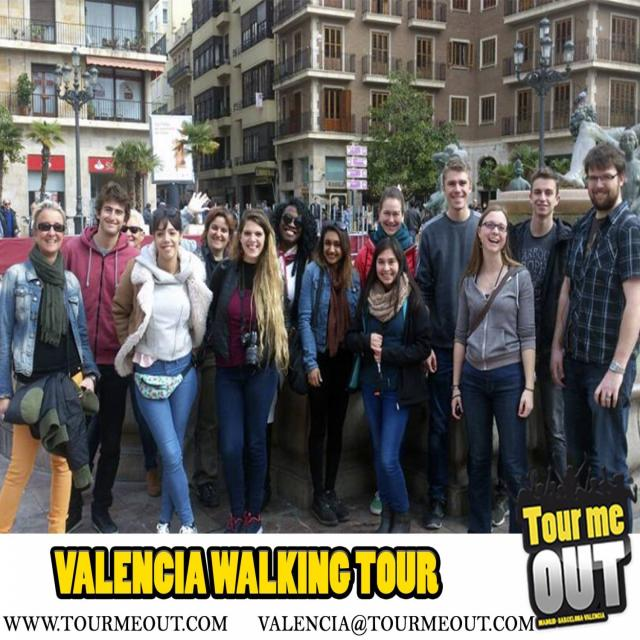body: (545, 141, 640, 535), (0, 200, 101, 558), (111, 204, 215, 536), (57, 182, 143, 534), (450, 203, 538, 534), (209, 206, 291, 550), (415, 157, 487, 532), (346, 236, 432, 534), (508, 168, 570, 507), (175, 190, 240, 505), (298, 217, 363, 526), (268, 198, 318, 508), (353, 187, 418, 290), (615, 125, 640, 213), (305, 190, 355, 217), (118, 206, 148, 250), (504, 153, 532, 195), (0, 196, 21, 238), (403, 198, 422, 238), (133, 199, 154, 232), (25, 202, 38, 238), (417, 200, 432, 227), (230, 206, 239, 233)
